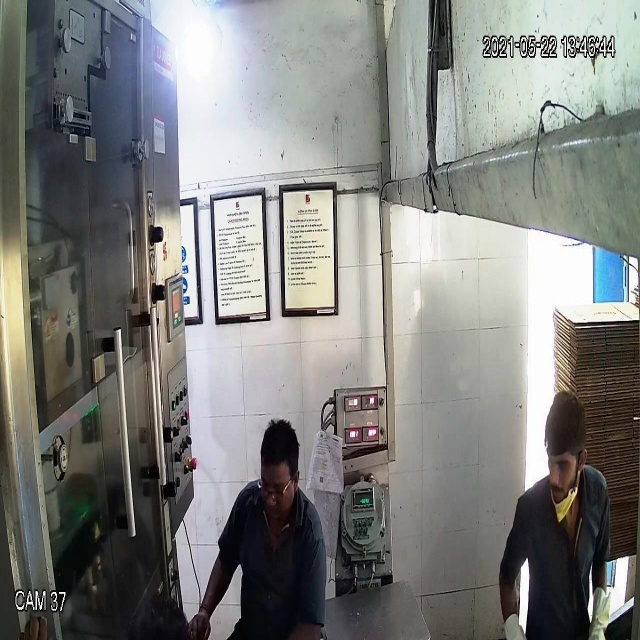Gafas: (254, 476, 298, 505)
Sin_gafas: (542, 452, 581, 480)
